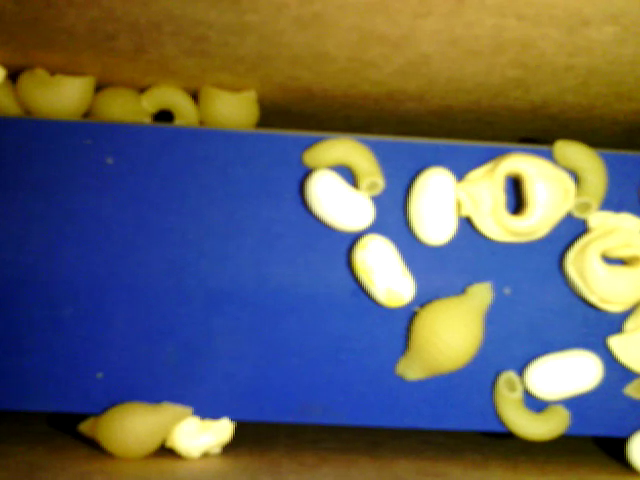elbow: (490, 370, 572, 438), (302, 137, 385, 195), (551, 137, 608, 215), (142, 83, 205, 126)
shell: (392, 279, 493, 384), (79, 397, 194, 458), (16, 65, 94, 122), (198, 82, 260, 132), (90, 84, 158, 124)
tortellini: (455, 151, 576, 242), (560, 206, 639, 314)
